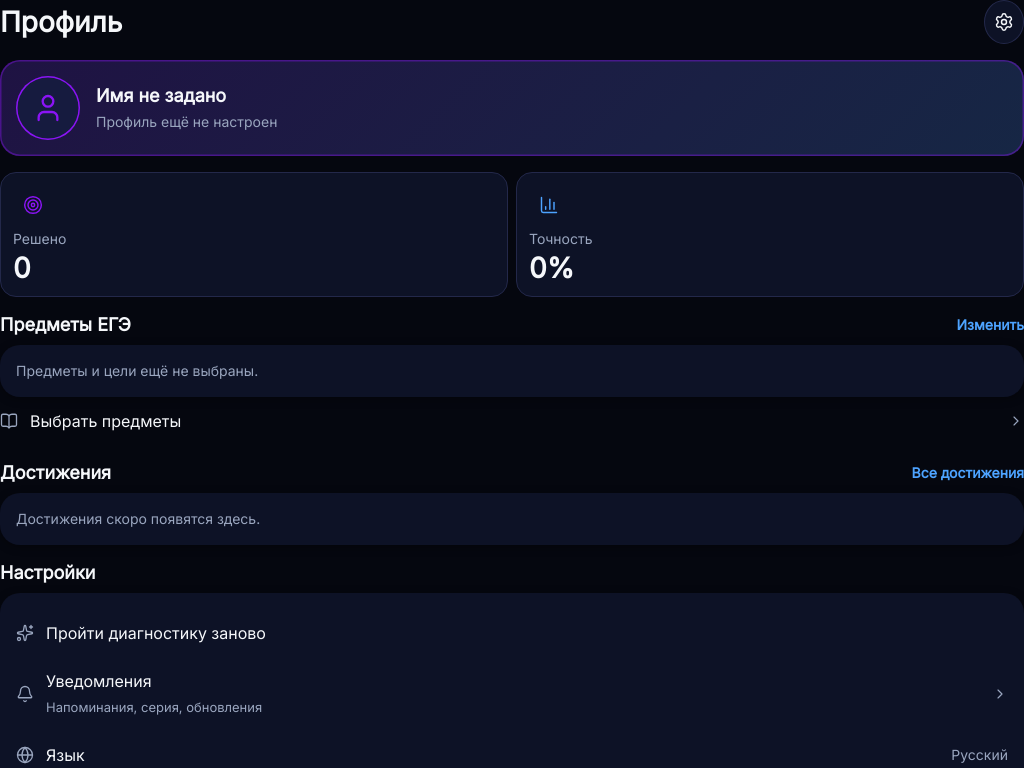
Test case: Profile › opens the Menu drawer (Рейтинг/Настройки/Помощь/О проекте…) via the header gear button
Click the button named "Меню" at (1004, 22), box [984,0,1023,44]
(page scrolled)
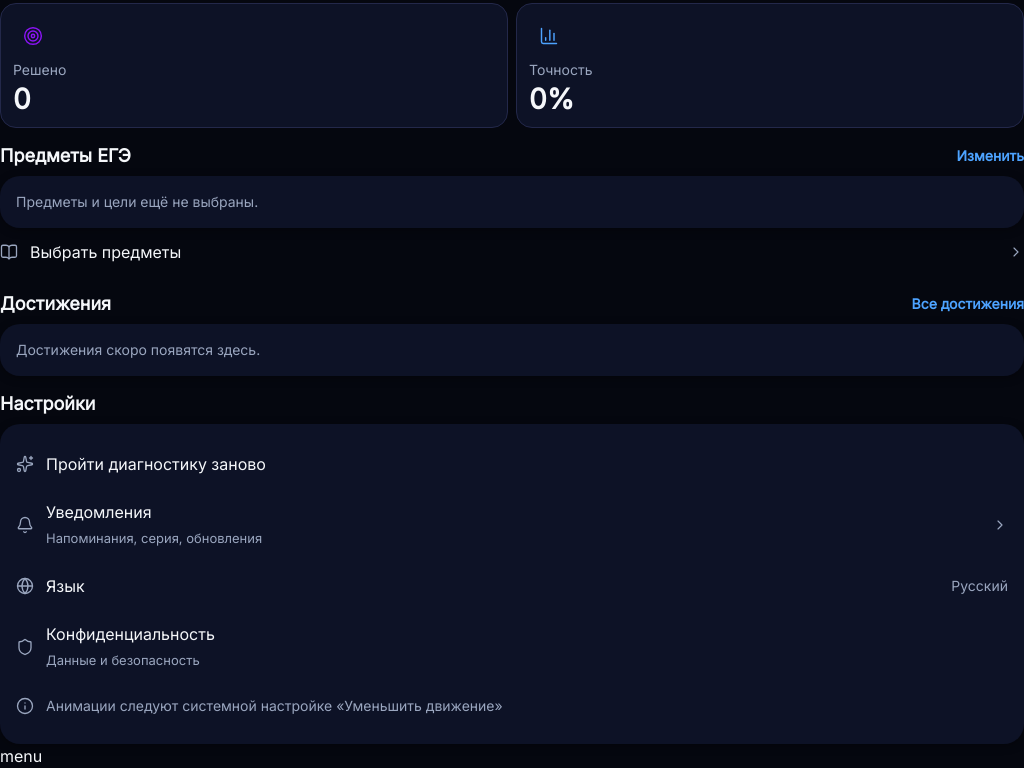
Expected: the text with test id "overlay" reads "menu", [0,746,42,766]
